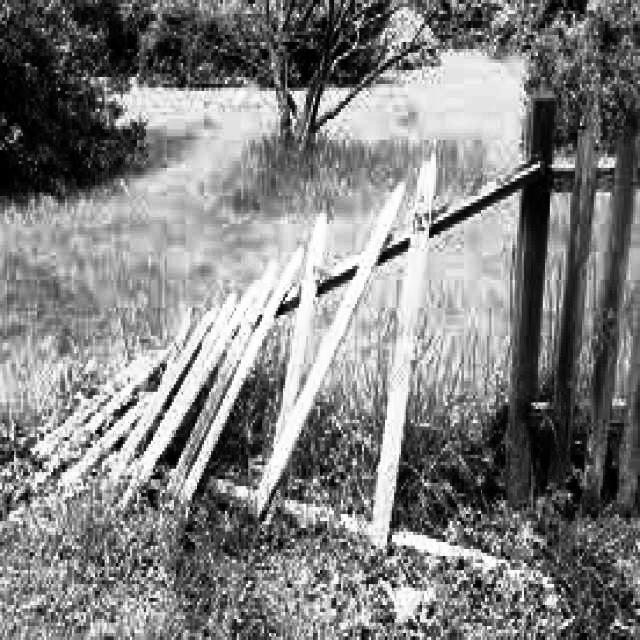anomaly-fence: (17, 88, 590, 555)
